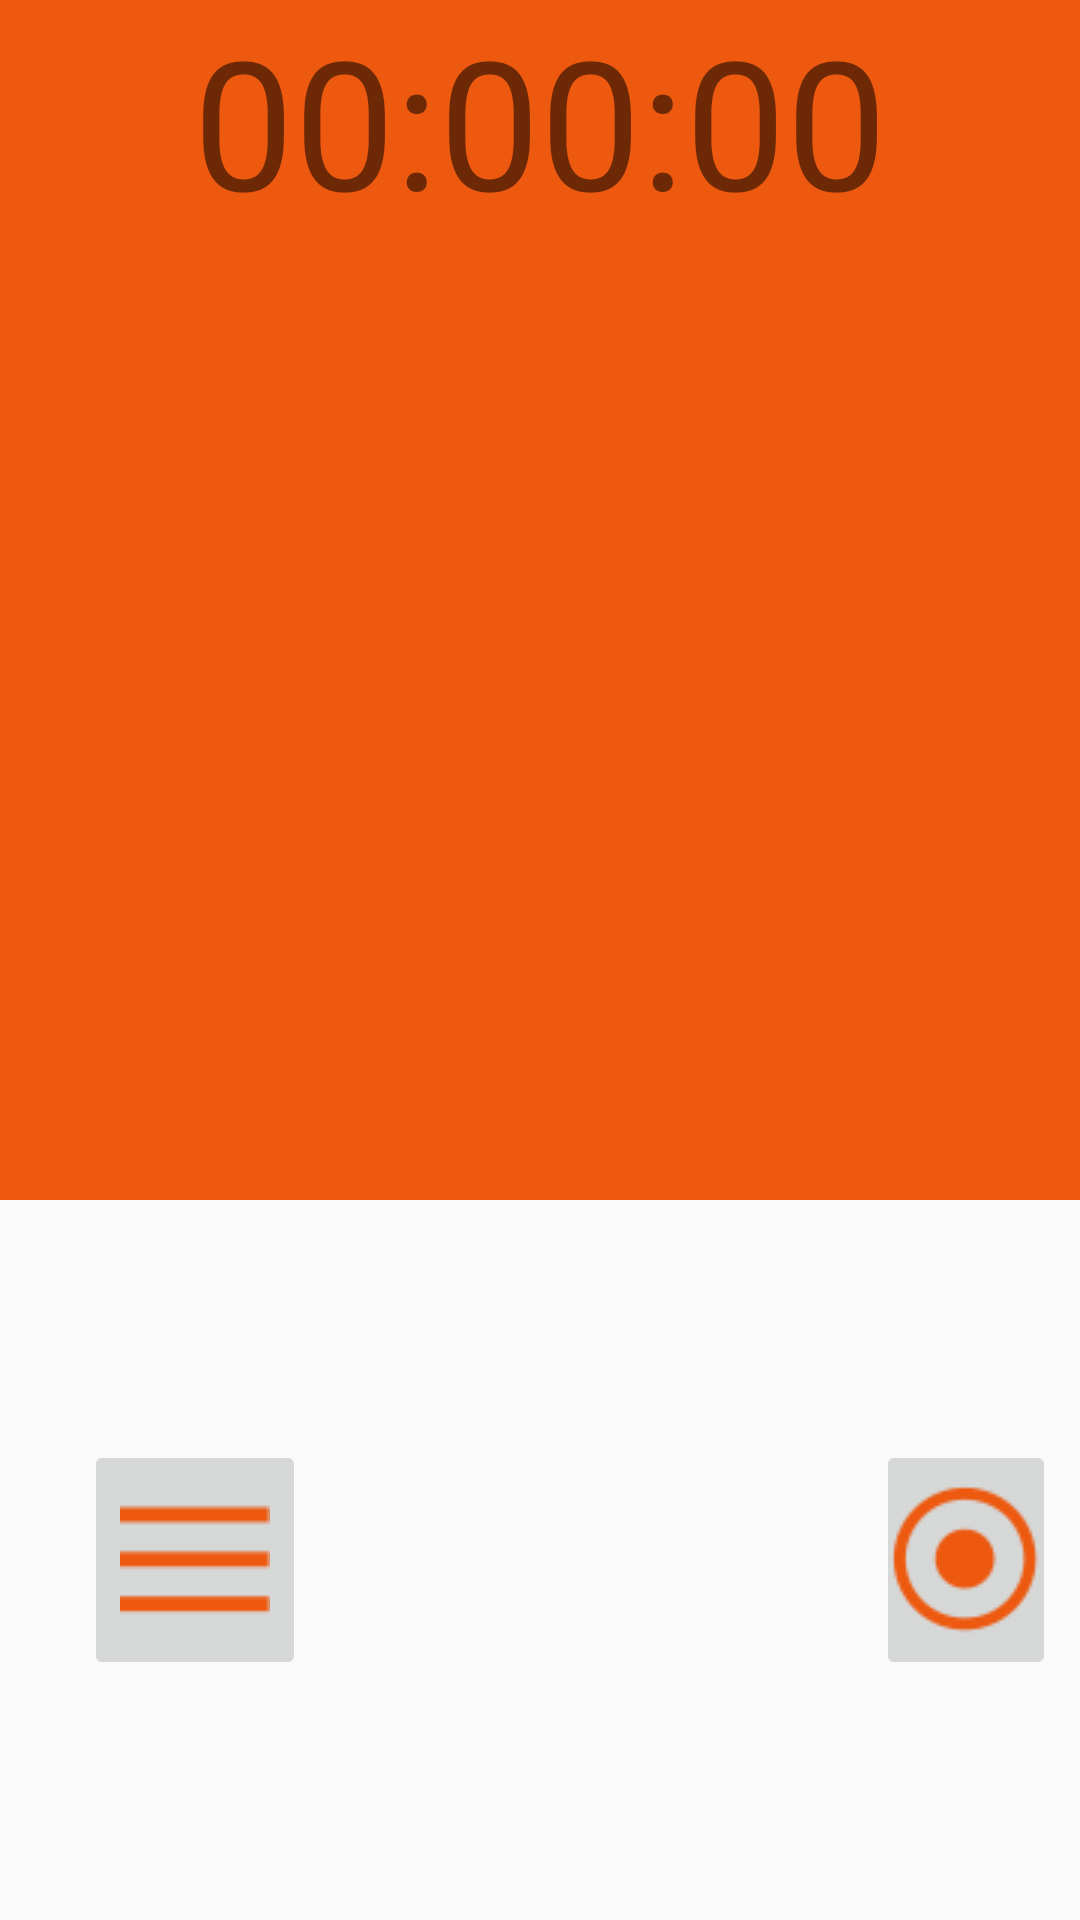

Named icons in this screenshot (1080px×1920px) and their centers, point (x, y):
menu: point (195, 1560)
record: point (966, 1560)
